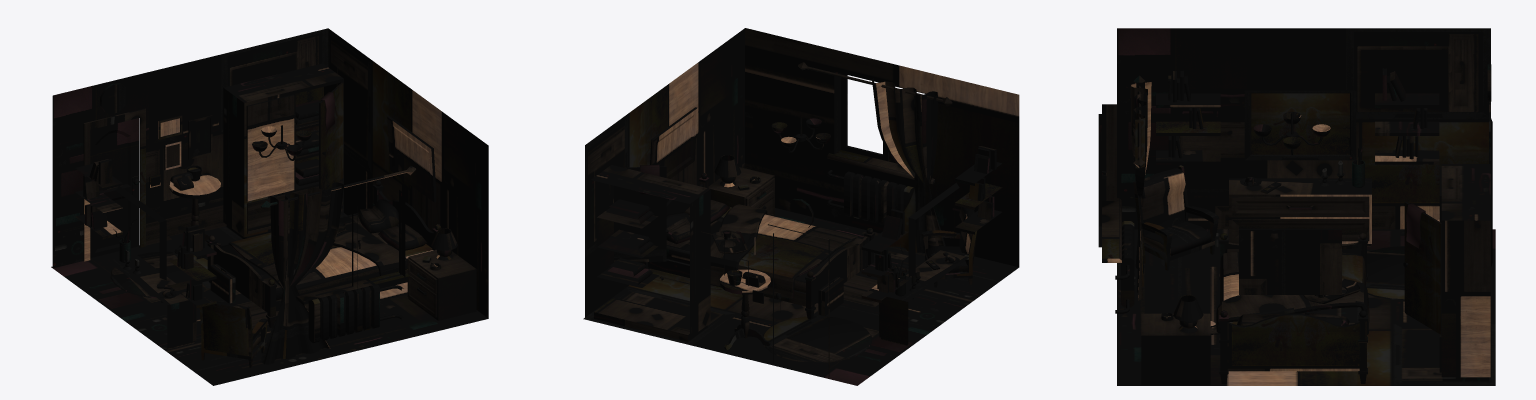
The model's file is bedroom dark.glb.
3 renders of one model, left to right at view 1: azimuth 30°, elevation 25°; view 2: azimuth 150°, elevation 25°; view 3: azimuth 270°, elevation 25°, orthographic. The views are drawn at different scales.
Visible parts, largest first — view 1: wall, Object008, Object002, Object004, Object010, Object006, Object003, Object012, Object011, Object001, painting001; view 2: Object009, Object006, Object008, Object004, Object003, Object010, Object002, Object011, Object012, Object001, painting001, wall; view 3: Object007, Object001, Object006, Object012, Object002, Object004, Object010, Object003, painting001, Object011, wall.
Part boxes in pixels (x1=…): wall: x1=52, y1=28, x2=328, y2=268; Object008: x1=328, y1=28, x2=488, y2=318; Object002: x1=83, y1=63, x2=343, y2=261; Object004: x1=75, y1=165, x2=415, y2=364; Object010: x1=83, y1=115, x2=457, y2=367; Object006: x1=51, y1=213, x2=488, y2=385; Object003: x1=110, y1=82, x2=403, y2=336; Object012: x1=106, y1=180, x2=440, y2=347; Object011: x1=206, y1=229, x2=407, y2=327; Object001: x1=116, y1=92, x2=476, y2=349; painting001: x1=387, y1=116, x2=436, y2=202; Object009: x1=745, y1=28, x2=1019, y2=267; Object006: x1=583, y1=208, x2=1018, y2=385; Object008: x1=585, y1=28, x2=744, y2=317; Object004: x1=798, y1=62, x2=1002, y2=302; Object003: x1=594, y1=166, x2=887, y2=362; Object010: x1=701, y1=146, x2=996, y2=349; Object002: x1=591, y1=117, x2=830, y2=376; Object011: x1=648, y1=204, x2=875, y2=319; Object012: x1=640, y1=173, x2=968, y2=343; Object001: x1=640, y1=164, x2=959, y2=345; painting001: x1=650, y1=107, x2=697, y2=178; wall: x1=861, y1=231, x2=908, y2=278; Object007: x1=1117, y1=28, x2=1490, y2=229; Object001: x1=1141, y1=90, x2=1425, y2=384; Object006: x1=1117, y1=229, x2=1495, y2=385; Object012: x1=1219, y1=137, x2=1371, y2=383; Object002: x1=1253, y1=64, x2=1492, y2=377; Object004: x1=1098, y1=75, x2=1439, y2=307; Object010: x1=1133, y1=68, x2=1490, y2=334; Object003: x1=1102, y1=169, x2=1488, y2=381; painting001: x1=1239, y1=228, x2=1341, y2=294; Object011: x1=1216, y1=237, x2=1369, y2=334; wall: x1=1375, y1=93, x2=1439, y2=135.
Bounding box in the file's own units: 5.02 × 2.59 × 5.05.
12 materials, 12 textured.
